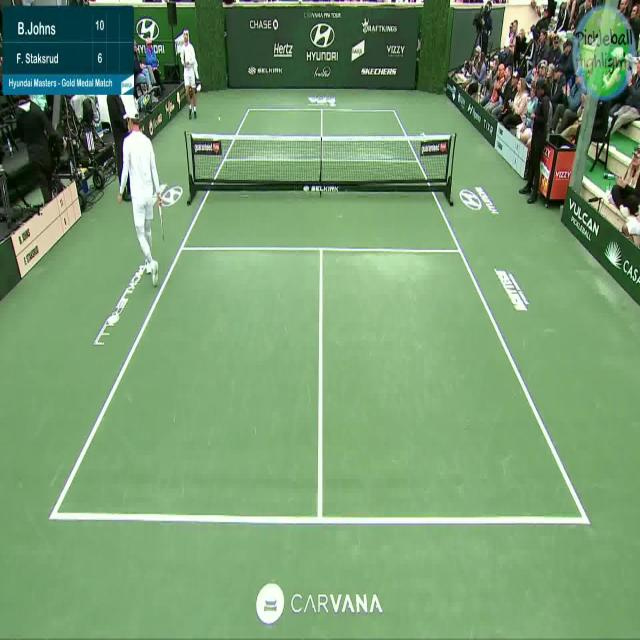ball: (218, 115, 222, 123)
